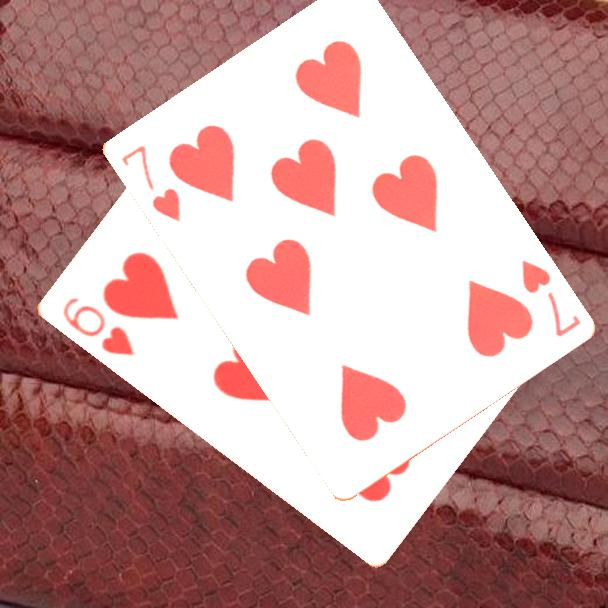h06: (58, 293, 138, 359)
h07: (117, 141, 183, 225), (517, 256, 583, 340)
